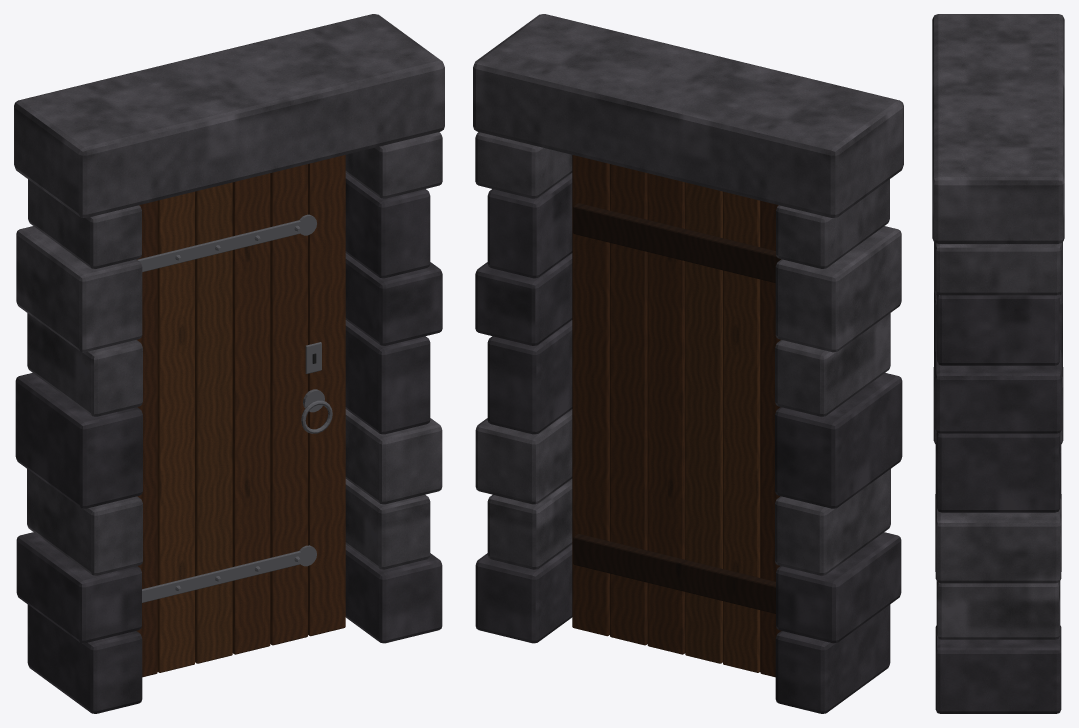
The model's file is cachot.glb.
The picture shows the model from 3 angles, left to right: view 1: azimuth 30°, elevation 25°; view 2: azimuth 150°, elevation 25°; view 3: azimuth 270°, elevation 25°; orthographic projection. The views are drawn at different scales.
Visible parts, largest first — view 1: cachot_cadre, cachot_battant; view 2: cachot_cadre, cachot_battant; view 3: cachot_cadre.
Part boxes in pixels (bbox=[...]): cachot_cadre: bbox=[14, 14, 444, 713]; cachot_battant: bbox=[136, 155, 345, 677]; cachot_cadre: bbox=[473, 14, 903, 713]; cachot_battant: bbox=[572, 155, 781, 677]; cachot_cadre: bbox=[932, 14, 1064, 713].
Bounding box in the file's own units: 1.62 × 2.42 × 0.54.
Materials: 9 (7 with a texture image).
